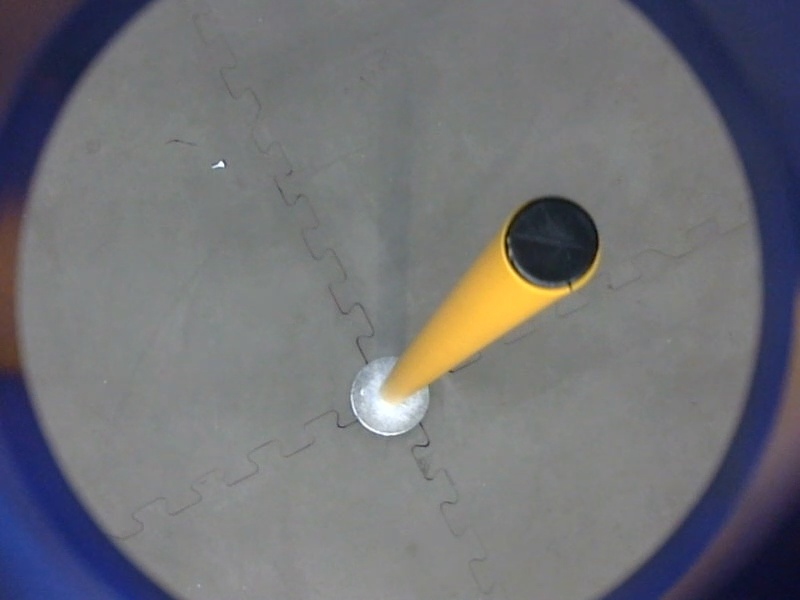tip: (498, 189, 605, 301)
